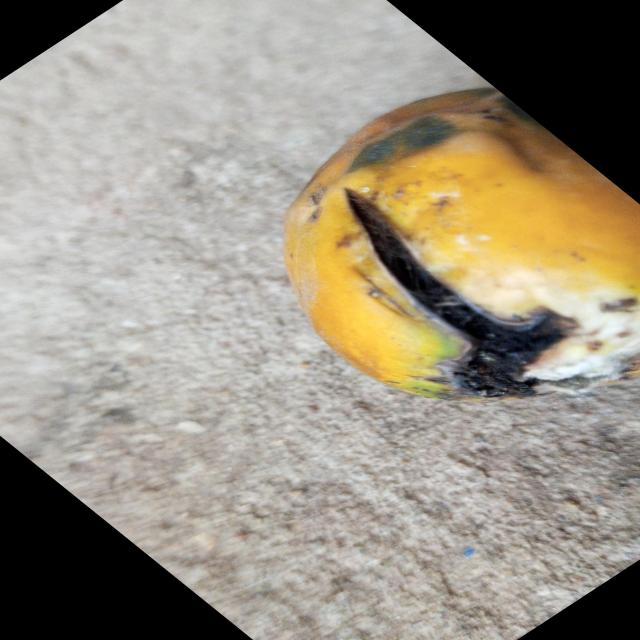damaged: (285, 87, 640, 402)
